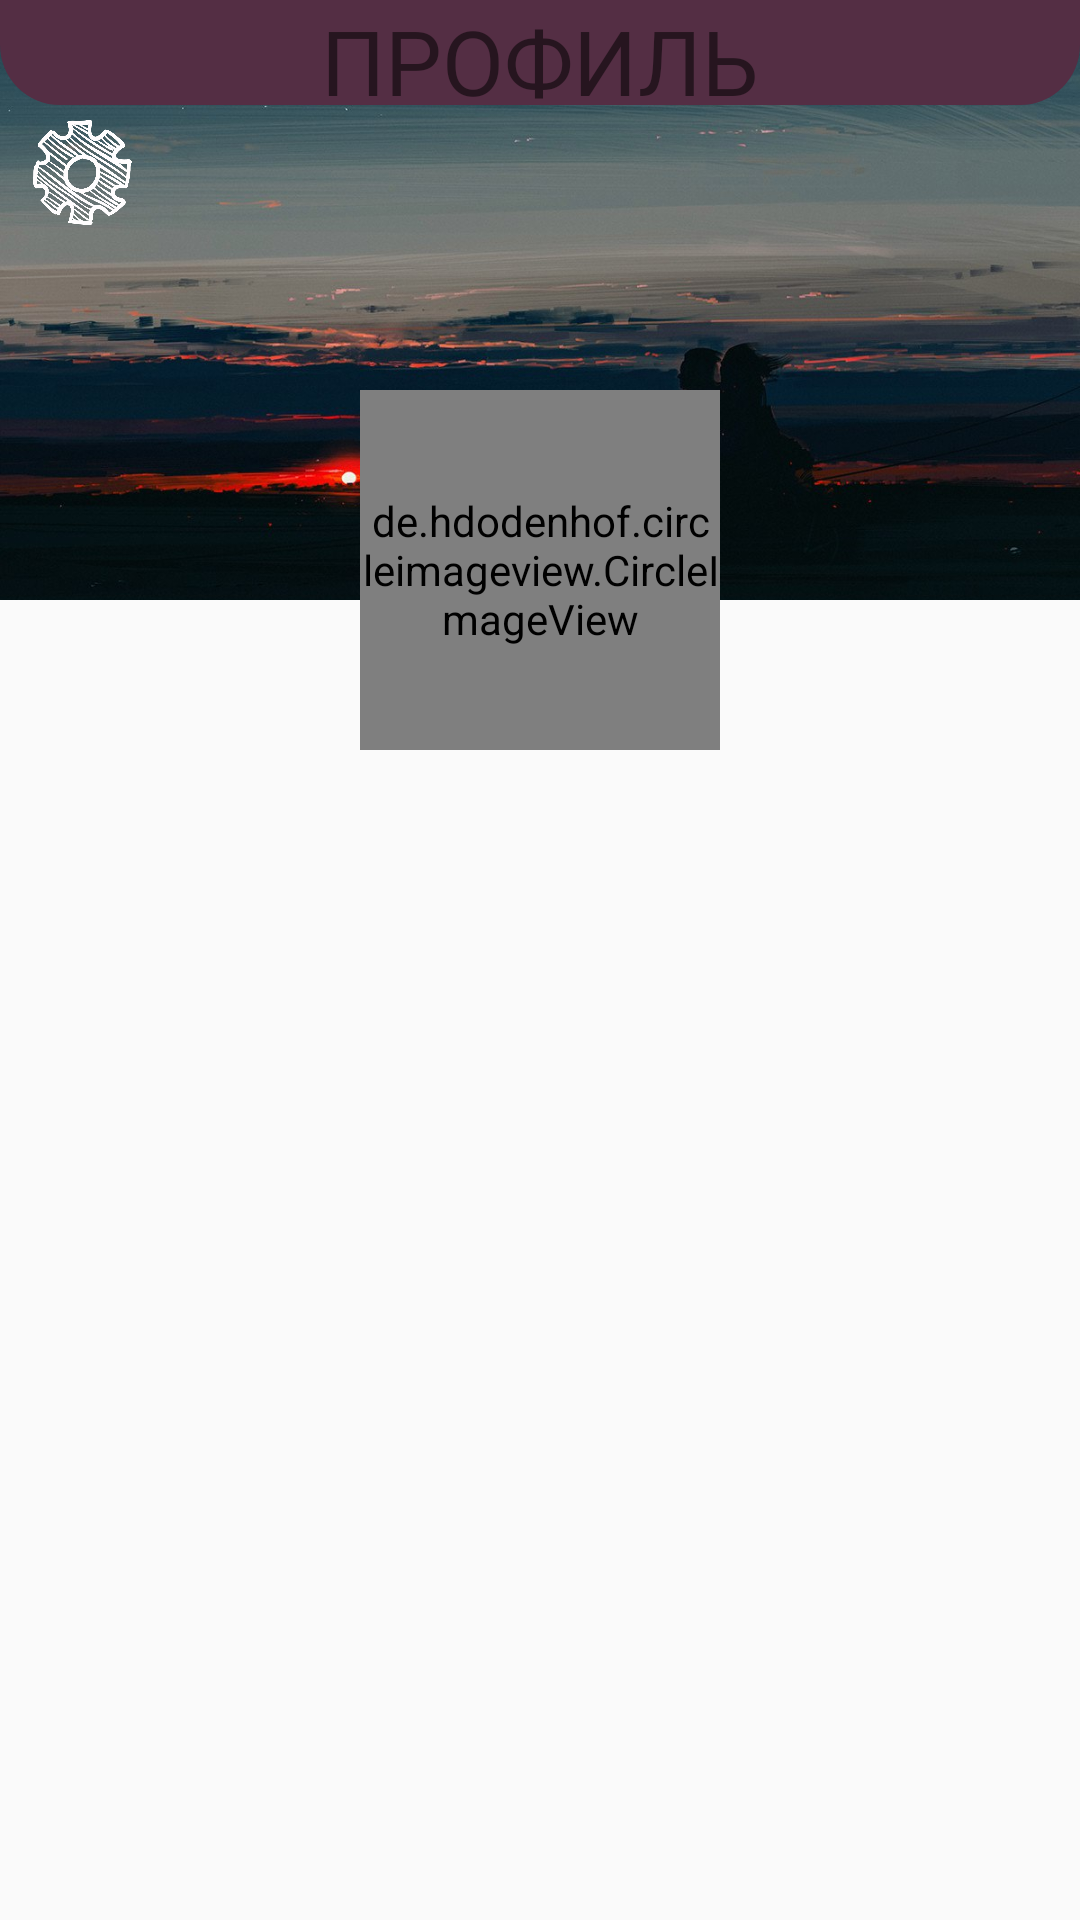

Icon click points for this 1080×1920 phone screenshot, format (x=x, y=y):
cog: (x=82, y=172)
